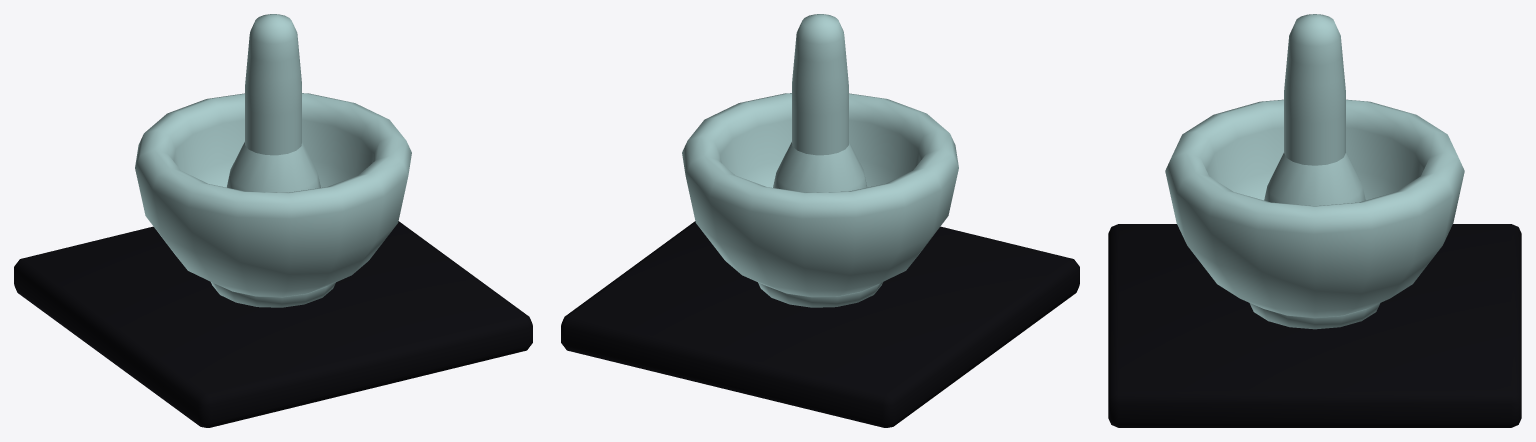
File: LastLuna_Model_Station_Grinder.fbx
3 views of the same model, side by side, from view 1: azimuth 30°, elevation 25°; view 2: azimuth 150°, elevation 25°; view 3: azimuth 270°, elevation 25° (orthographic). The views are drawn at different scales.
Visible parts, largest first — view 1: Stand_Base_Small001, Mortar001, Pestle001; view 2: Stand_Base_Small001, Mortar001, Pestle001; view 3: Stand_Base_Small001, Mortar001, Pestle001.
Part boxes in pixels (x1,y1,x2,y2): Stand_Base_Small001: [14, 221, 532, 427]; Mortar001: [135, 93, 411, 307]; Pestle001: [226, 14, 320, 192]; Stand_Base_Small001: [561, 221, 1079, 427]; Mortar001: [682, 93, 958, 307]; Pestle001: [773, 14, 867, 192]; Stand_Base_Small001: [1108, 224, 1521, 427]; Mortar001: [1165, 99, 1464, 329]; Pestle001: [1264, 14, 1365, 205].
Bounding box in the file's own units: 100 × 87.5 × 100.
